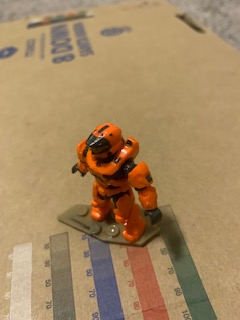soldier: (69, 120, 164, 244)
